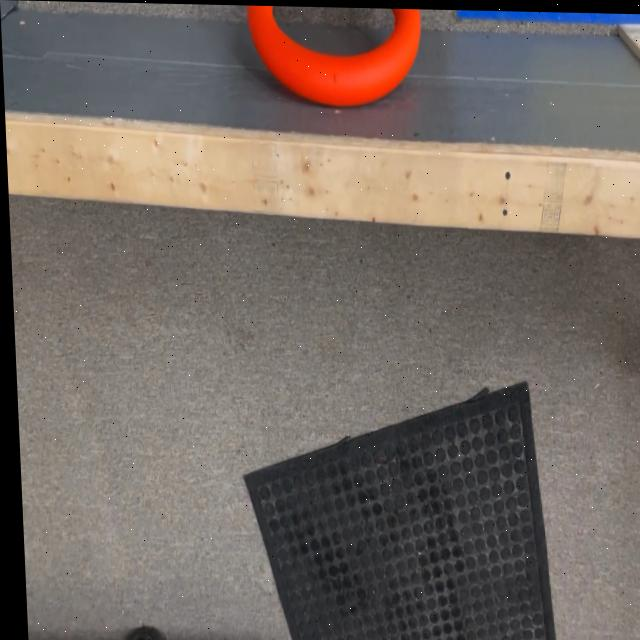note: (243, 4, 426, 103)
